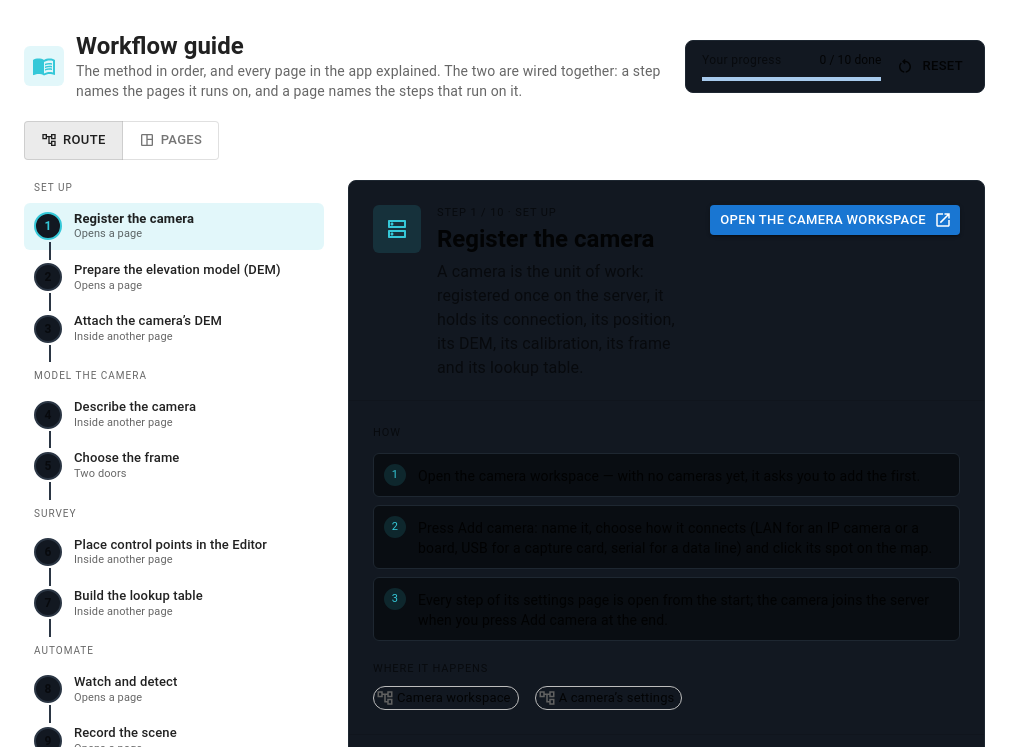
Test: the workflow guide › steps without a page of their own say where they live instead of faking a door
This screenshot has width=1024, height=747.
Click the tab "4 Describe the camera Inside another page" at (115, 414), box [34,399,196,429]
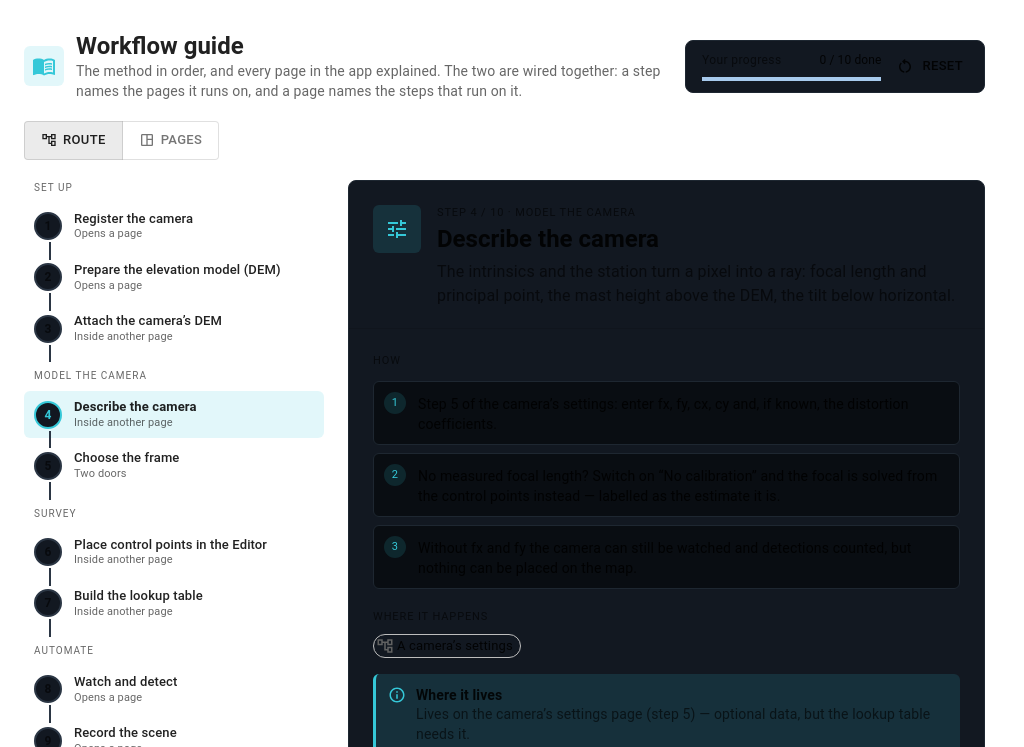
Expected: the text "Lives on the camera’s settings page (step 5) — optional data, but the lookup table needs it." is shown, [416,706,930,742]
Click the tab "7 Build the lookup table Inside another page" at (118, 603), box [34,588,203,618]
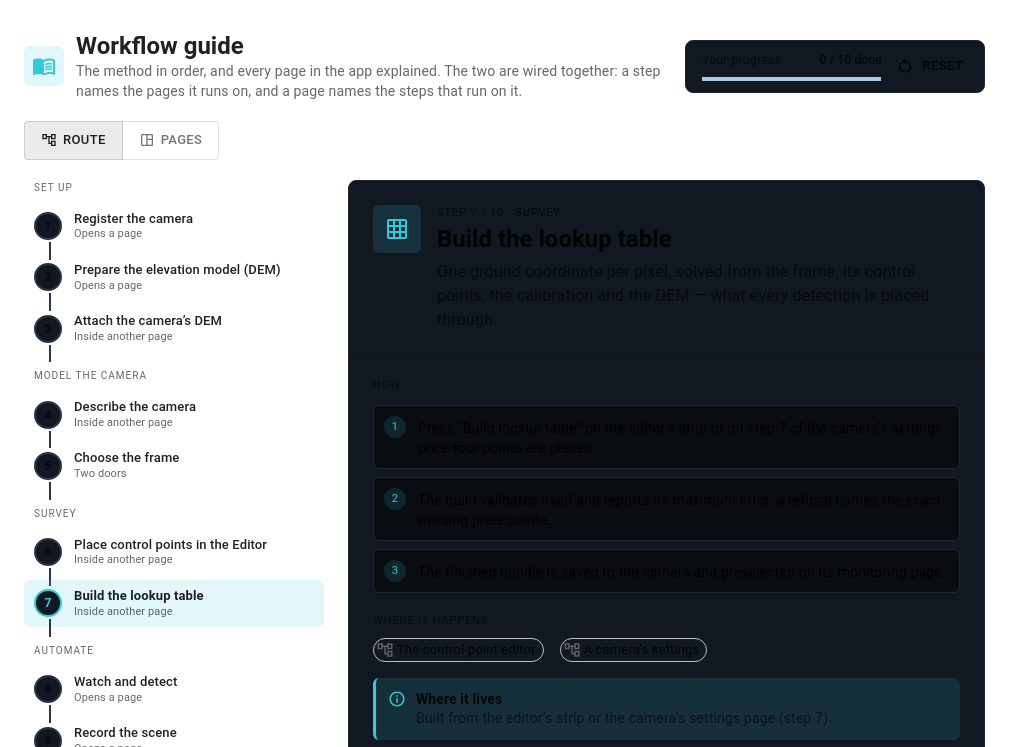
Expected: the text "Built from the editor’s strip or the camera’s settings page (step 7)." is shown, [416,708,832,728]
